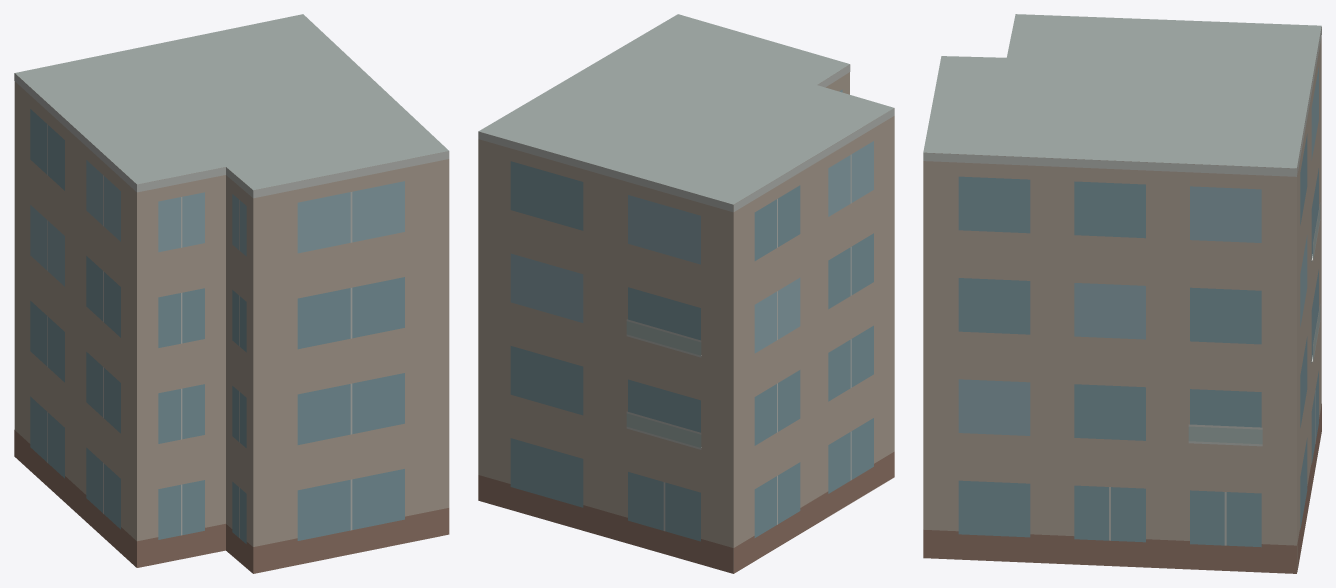
The model's file is survey-upis-32803814.glb.
3 renders of one model, left to right at view 1: azimuth 30°, elevation 25°; view 2: azimuth 150°, elevation 25°; view 3: azimuth 270°, elevation 25°, orthographic. The views are drawn at different scales.
Parts seen in each view (by area): view 1: survey-upis-32803814.tmp; view 2: survey-upis-32803814.tmp; view 3: survey-upis-32803814.tmp.
Boxes of the visible parts, x1,y1,x2,y2 form: survey-upis-32803814.tmp: (14, 14, 449, 573); survey-upis-32803814.tmp: (478, 14, 894, 573); survey-upis-32803814.tmp: (923, 14, 1321, 573).
Size of the model in its own units: 9.57 by 11.7 by 10.43.
